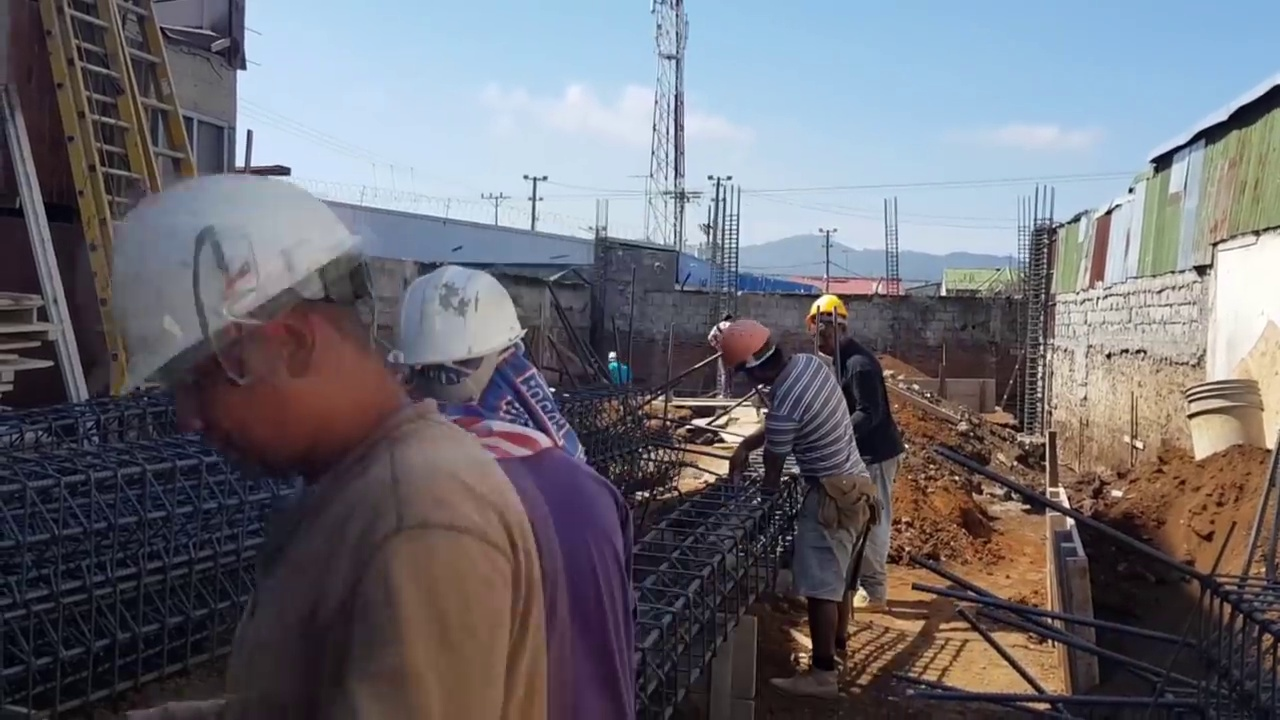helmet: (104, 179, 363, 405), (387, 267, 518, 372), (716, 319, 767, 372), (804, 296, 852, 322), (607, 354, 618, 361)
helmet-off: (714, 307, 731, 323)
helmet-on: (104, 178, 430, 495), (392, 255, 553, 452), (717, 317, 795, 388), (805, 295, 853, 359), (607, 354, 619, 365)
person: (103, 181, 547, 720), (391, 261, 640, 720), (715, 317, 877, 663), (803, 292, 908, 613), (707, 307, 735, 401), (604, 354, 632, 387)
